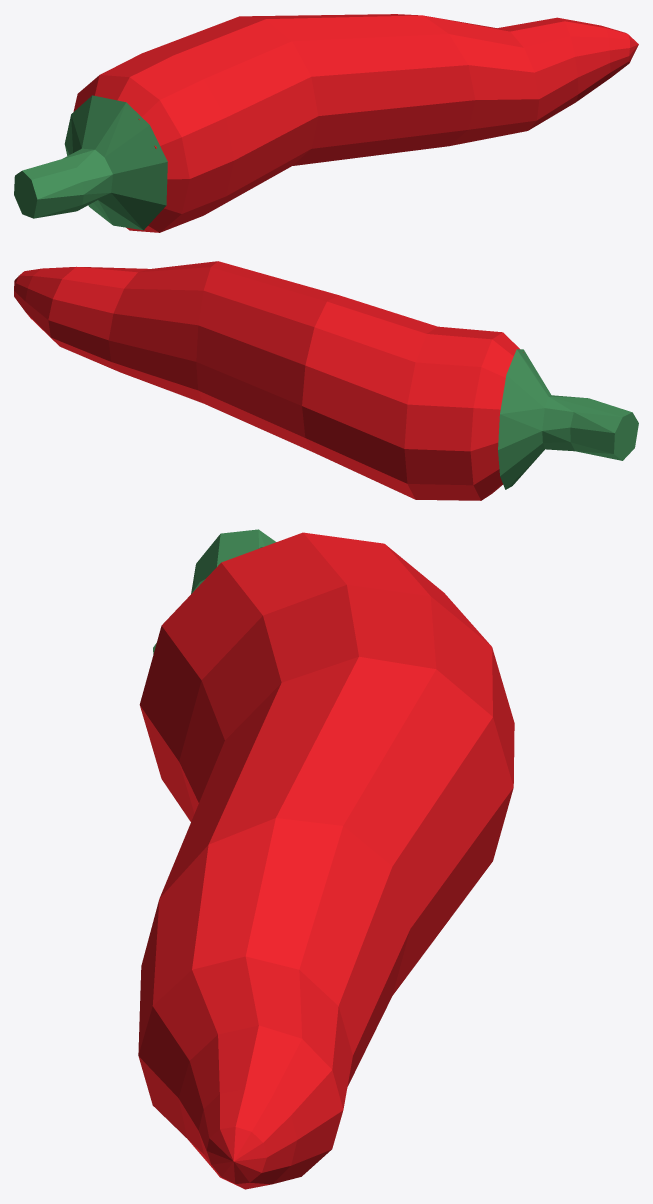
File: chilly.fbx
The picture shows the model from 3 angles, top to bottom: view 1: azimuth 30°, elevation 25°; view 2: azimuth 150°, elevation 25°; view 3: azimuth 270°, elevation 25°; orthographic projection. The views are drawn at different scales.
Visible parts, largest first — view 1: Sphere.018; view 2: Sphere.018; view 3: Sphere.018.
Boxes of the visible parts, left/top/right/bottom form: Sphere.018: left=14, top=14, right=638, bottom=232; Sphere.018: left=14, top=261, right=638, bottom=500; Sphere.018: left=138, top=529, right=514, bottom=1189.
Bounding box in the file's own units: 48.51 × 12.78 × 12.93.
